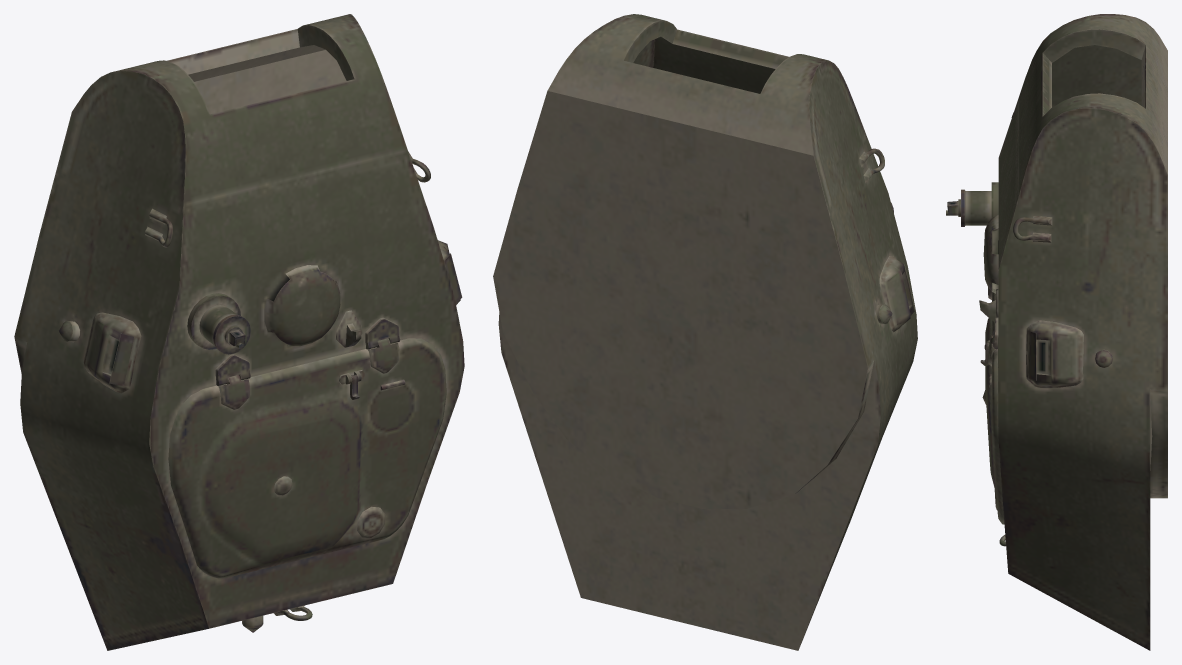
File: Turret_01.glb
The picture shows the model from 3 angles, left to right: view 1: azimuth 30°, elevation 25°; view 2: azimuth 150°, elevation 25°; view 3: azimuth 270°, elevation 25°; orthographic projection. The views are drawn at different scales.
Parts seen in each view (by area): view 1: set_0_group_0; view 2: set_0_group_0; view 3: set_0_group_0.
Part boxes in pixels (x1,y1,x2,y2): set_0_group_0: [14, 14, 464, 650]; set_0_group_0: [493, 14, 917, 650]; set_0_group_0: [946, 14, 1167, 650].
Size of the model in its own units: 1.19 by 1.67 by 0.6251.
1 material, 1 textured.
